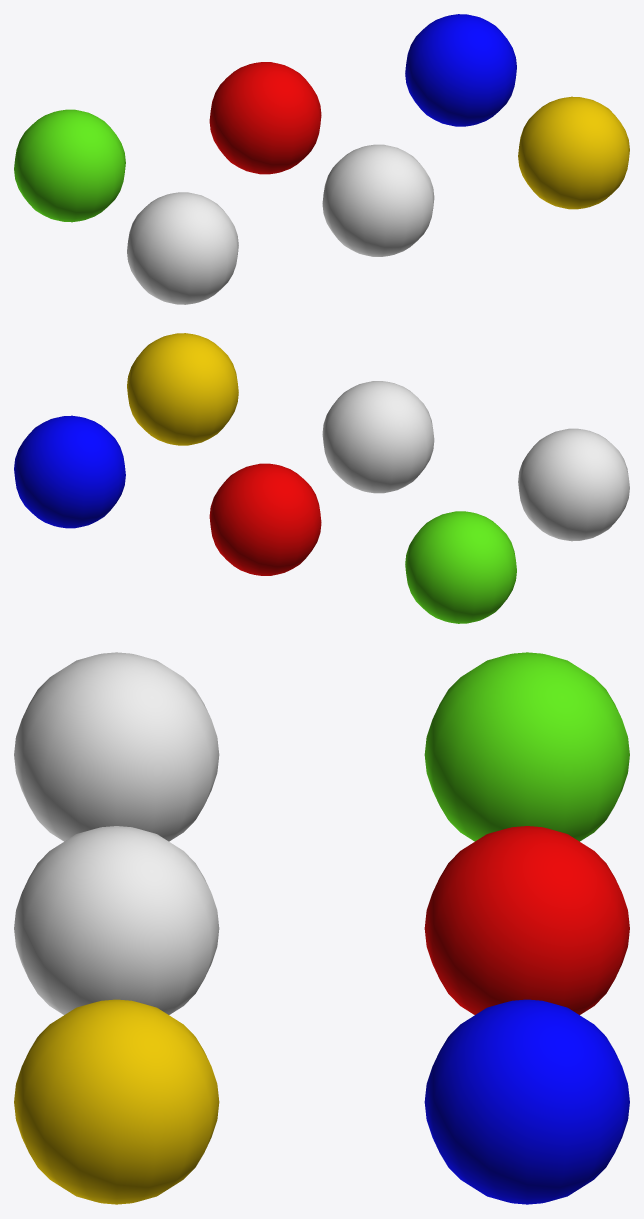
Rendered from pbr.glb.
3 renders of one model, top to bottom at view 1: azimuth 30°, elevation 25°; view 2: azimuth 150°, elevation 25°; view 3: azimuth 270°, elevation 25°, orthographic. The views are drawn at different scales.
Parts seen in each view (by area): view 1: Sphere, Sphere.006, Sphere.001, Sphere.003, Sphere.002, Sphere.004; view 2: Sphere.002, Sphere.004, Sphere.001, Sphere.003, Sphere, Sphere.006; view 3: Sphere, Sphere.004, Sphere.002, Sphere.006, Sphere.001, Sphere.003.
Boxes of the visible parts, x1,y1,x2,y2 form: Sphere: [518, 96, 629, 209]; Sphere.006: [14, 109, 125, 222]; Sphere.001: [322, 144, 434, 256]; Sphere.003: [209, 62, 321, 174]; Sphere.002: [127, 192, 238, 304]; Sphere.004: [405, 14, 516, 126]; Sphere.002: [518, 428, 629, 541]; Sphere.004: [14, 415, 125, 528]; Sphere.001: [322, 381, 434, 493]; Sphere.003: [209, 463, 321, 575]; Sphere: [127, 333, 238, 445]; Sphere.006: [405, 511, 516, 623]; Sphere: [14, 999, 219, 1204]; Sphere.004: [424, 999, 629, 1204]; Sphere.002: [14, 652, 219, 841]; Sphere.006: [424, 652, 629, 841]; Sphere.001: [14, 826, 219, 1014]; Sphere.003: [424, 826, 629, 1014].
Size of the model in its own units: 5 by 1 by 3.
